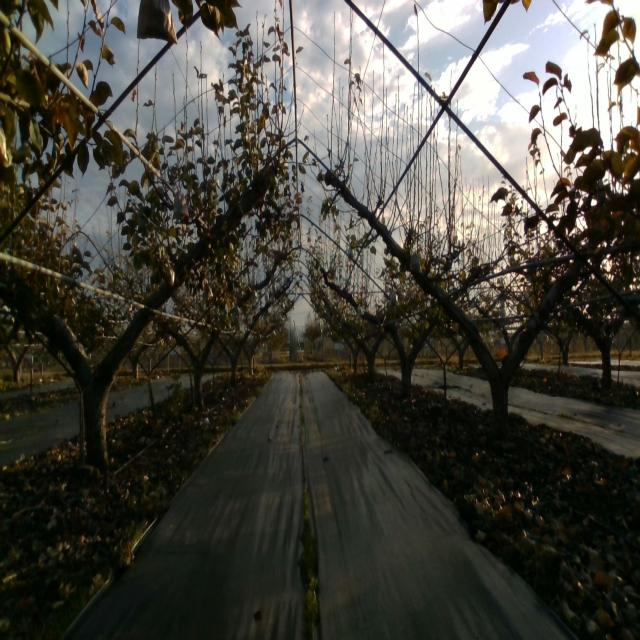pearbags: (136, 0, 178, 45), (172, 186, 189, 221), (409, 252, 423, 274)
